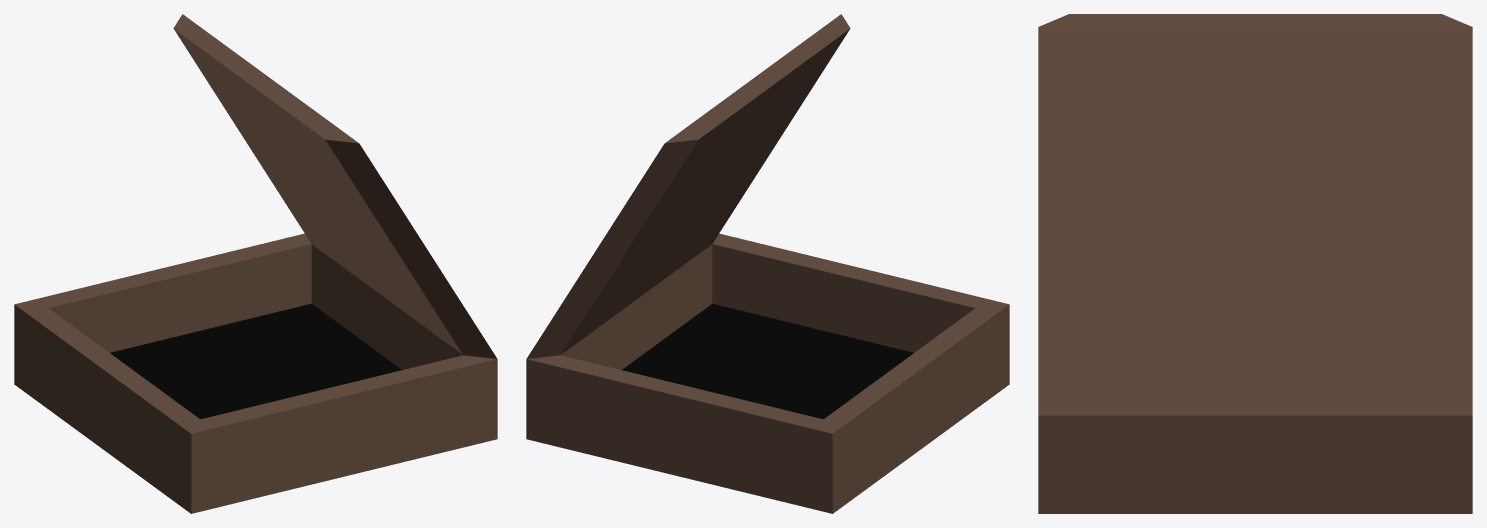
Rendered from Stairs.fbx.
The picture shows the model from 3 angles, left to right: view 1: azimuth 30°, elevation 25°; view 2: azimuth 150°, elevation 25°; view 3: azimuth 270°, elevation 25°; orthographic projection. The views are drawn at different scales.
Parts seen in each view (by area): view 1: Cube; view 2: Cube; view 3: Cube.
Part boxes in pixels (x1,y1,x2,y2): Cube: [14, 14, 497, 513]; Cube: [526, 14, 1009, 513]; Cube: [1038, 14, 1472, 513].
Size of the model in its own units: 200 by 200 by 206.
